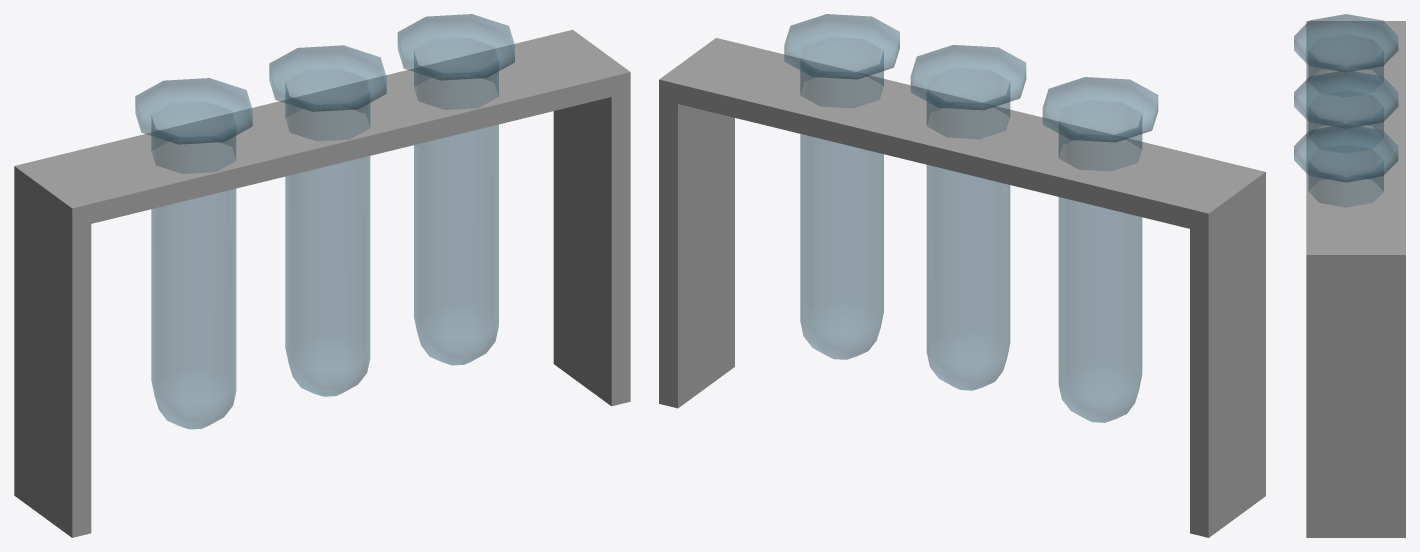
File: Vials.fbx
3 renders of one model, left to right at view 1: azimuth 30°, elevation 25°; view 2: azimuth 150°, elevation 25°; view 3: azimuth 270°, elevation 25°, orthographic. The views are drawn at different scales.
Visible parts, largest first — view 1: Vials; view 2: Vials; view 3: Vials.
Boxes of the visible parts, left/top/right/bottom form: Vials: left=14, top=14, right=630, bottom=537; Vials: left=659, top=14, right=1265, bottom=537; Vials: left=1294, top=14, right=1405, bottom=537.
Size of the model in its own units: 100 by 65.48 by 20.21.
